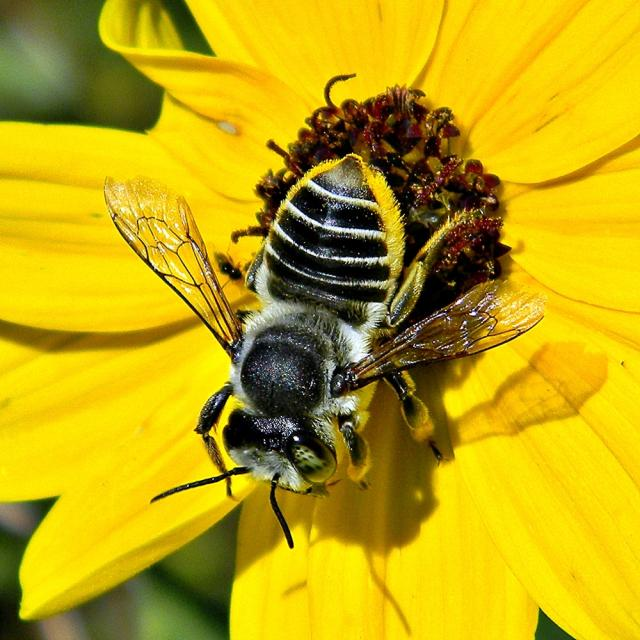Allodapula: (93, 129, 563, 552)
